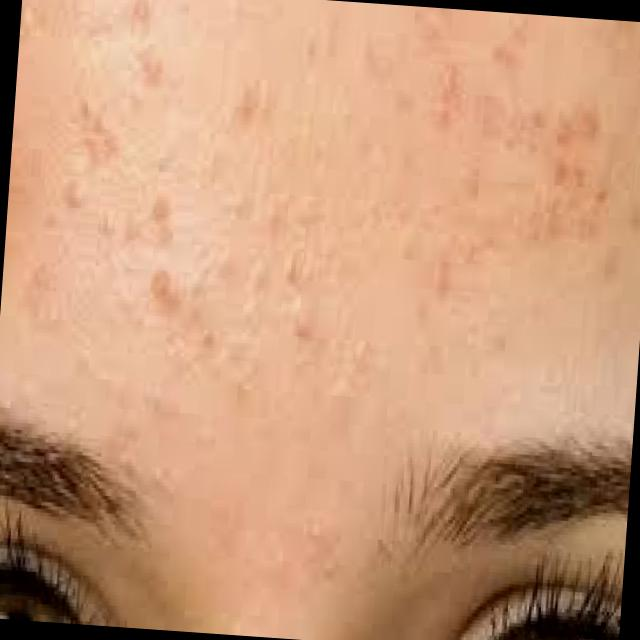fungal: (1, 0, 640, 413)
